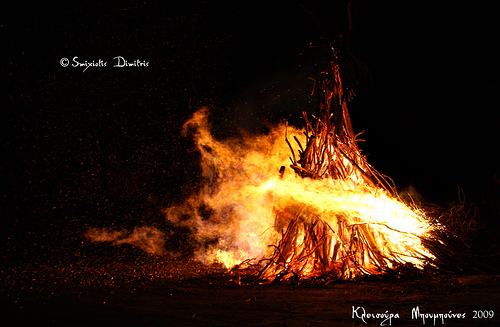fire: (184, 124, 453, 275)
